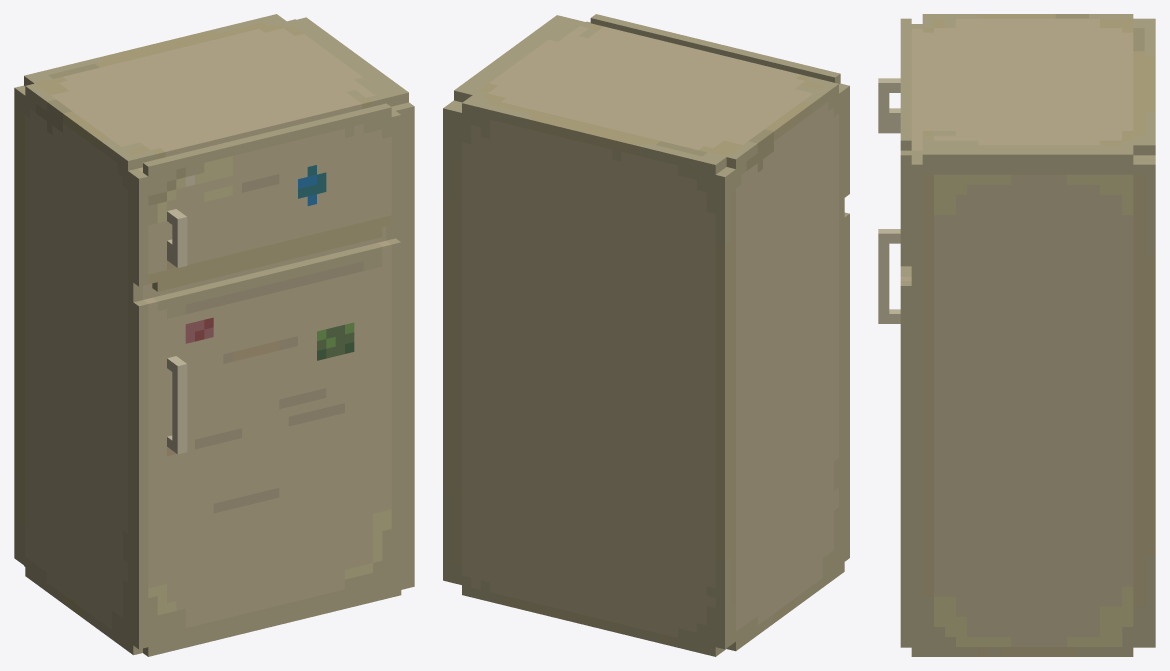
The model's file is holodilnik.obj.
The picture shows the model from 3 angles, left to right: view 1: azimuth 30°, elevation 25°; view 2: azimuth 150°, elevation 25°; view 3: azimuth 270°, elevation 25°; orthographic projection. The views are drawn at different scales.
Size of the model in its own units: 3 by 5 by 2.5.
1 material, 1 textured.
